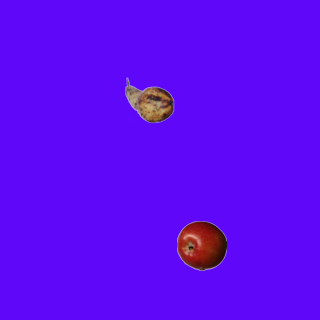Apple Braeburn: (176, 220, 226, 270)
Pear Abate: (124, 75, 174, 125)
